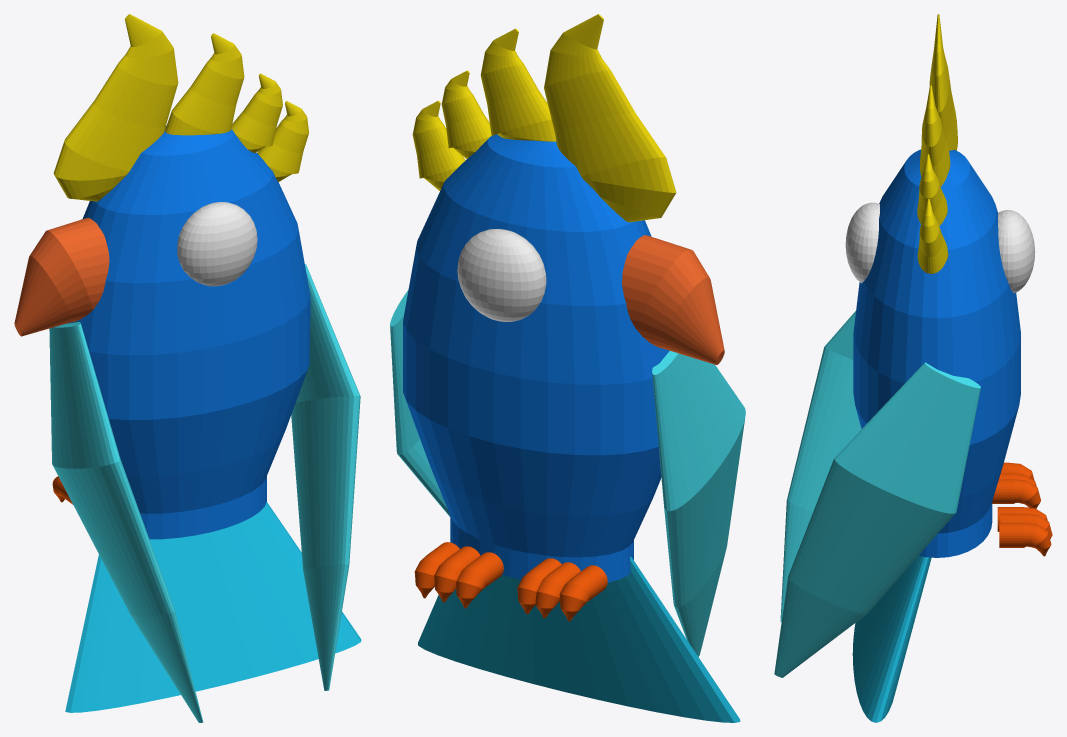
The model's file is TROPICAL BIRD.fbx.
3 renders of one model, left to right at view 1: azimuth 30°, elevation 25°; view 2: azimuth 150°, elevation 25°; view 3: azimuth 270°, elevation 25°, orthographic. The views are drawn at different scales.
Parts seen in each view (by area): view 1: Cylinder, Cylinder.005, Cylinder.014, Cylinder.012, Cylinder.001, Cylinder.013, Sphere.001, Cylinder.002, Cylinder.003, Cylinder.004; view 2: Cylinder, Cylinder.005, Cylinder.014, Cylinder.001, Cylinder.013, Sphere, Cylinder.002, Cylinder.012, Cylinder.003, Cylinder.004, Cylinder.006, Cylinder.009 (+4 smaller); view 3: Cylinder, Cylinder.012, Cylinder.014, Cylinder.005, Sphere, Sphere.001, Cylinder.001, Cylinder.002, Cylinder.004, Cylinder.011, Cylinder.003, Cylinder.008 (+1 smaller).
Boxes of the visible parts, x1=… form: Cylinder: x1=67, y1=125, x2=310, y2=539; Cylinder.005: x1=65, y1=502, x2=361, y2=712; Cylinder.014: x1=49, y1=321, x2=203, y2=722; Cylinder.012: x1=291, y1=264, x2=360, y2=690; Cylinder.001: x1=53, y1=14, x2=178, y2=201; Cylinder.013: x1=14, y1=218, x2=109, y2=336; Sphere.001: x1=177, y1=202, x2=257, y2=286; Cylinder.002: x1=165, y1=33, x2=244, y2=135; Cylinder.003: x1=231, y1=73, x2=282, y2=153; Cylinder.004: x1=257, y1=101, x2=308, y2=181; Cylinder: x1=403, y1=134, x2=669, y2=582; Cylinder.005: x1=418, y1=556, x2=740, y2=722; Cylinder.014: x1=652, y1=351, x2=745, y2=656; Cylinder.001: x1=544, y1=14, x2=676, y2=222; Cylinder.013: x1=622, y1=235, x2=724, y2=364; Sphere: x1=457, y1=229, x2=546, y2=321; Cylinder.002: x1=480, y1=28, x2=556, y2=141; Cylinder.012: x1=390, y1=290, x2=450, y2=516; Cylinder.003: x1=441, y1=70, x2=491, y2=159; Cylinder.004: x1=412, y1=100, x2=465, y2=190; Cylinder.006: x1=559, y1=565, x2=607, y2=621; Cylinder.009: x1=456, y1=552, x2=503, y2=608; Cylinder: x1=853, y1=149, x2=1020, y2=557; Cylinder.012: x1=774, y1=362, x2=980, y2=677; Cylinder.014: x1=780, y1=311, x2=861, y2=621; Cylinder.005: x1=852, y1=555, x2=931, y2=722; Sphere: x1=998, y1=210, x2=1035, y2=293; Sphere.001: x1=845, y1=202, x2=879, y2=283; Cylinder.001: x1=929, y1=14, x2=957, y2=150; Cylinder.002: x1=920, y1=85, x2=950, y2=186; Cylinder.004: x1=917, y1=199, x2=948, y2=273; Cylinder.011: x1=999, y1=523, x2=1051, y2=556; Cylinder.003: x1=917, y1=154, x2=947, y2=225; Cylinder.008: x1=992, y1=479, x2=1040, y2=508.
Size of the model in its own units: 505 by 1002 by 409.
